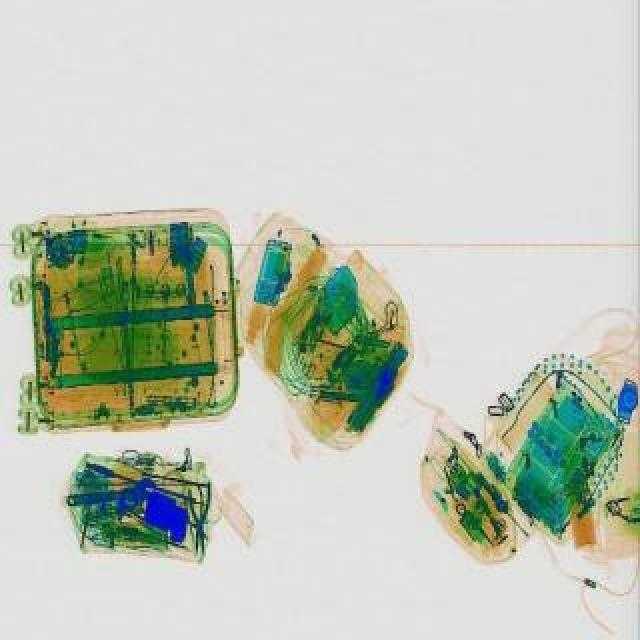scissors: (62, 472, 162, 518)
